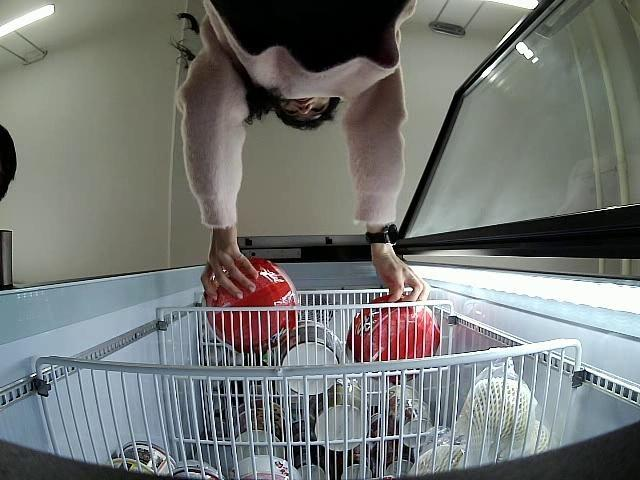10_wangTtukkeong: (206, 258, 296, 352), (345, 296, 439, 362)
